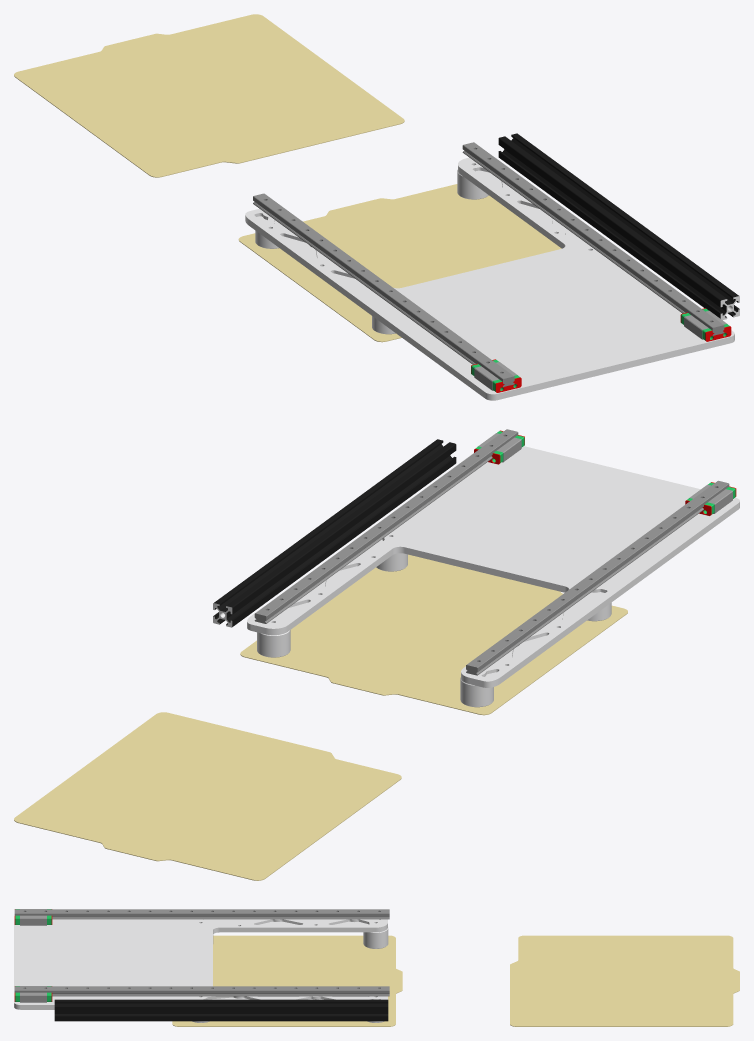
The model's file is concept.glb.
3 renders of one model, top to bottom at view 1: azimuth 30°, elevation 25°; view 2: azimuth 150°, elevation 25°; view 3: azimuth 270°, elevation 25°, orthographic. The views are drawn at different scales.
Parts seen in each view (by area): view 1: anim_bprc_0_G_STATIC, anim_bprc_1_G_MOVE, anim_bprc_2_G_CARRIED; view 2: anim_bprc_0_G_STATIC, anim_bprc_1_G_MOVE, anim_bprc_2_G_CARRIED; view 3: anim_bprc_0_G_STATIC, anim_bprc_1_G_MOVE, anim_bprc_2_G_CARRIED.
Boxes of the visible parts, <box> form: anim_bprc_0_G_STATIC: <box>14,14,739,386</box>; anim_bprc_1_G_MOVE: <box>245,157,734,400</box>; anim_bprc_2_G_CARRIED: <box>238,184,561,342</box>; anim_bprc_0_G_STATIC: <box>14,429,729,880</box>; anim_bprc_1_G_MOVE: <box>247,430,739,707</box>; anim_bprc_2_G_CARRIED: <box>240,554,627,715</box>; anim_bprc_0_G_STATIC: <box>14,909,739,1026</box>; anim_bprc_1_G_MOVE: <box>14,909,388,1022</box>; anim_bprc_2_G_CARRIED: <box>172,935,402,1026</box>.
Bounding box in the file's own units: 0.2881 × 0.042 × 0.8706.
